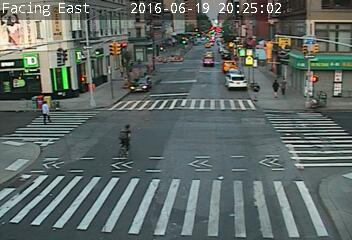neg: (108, 121, 139, 163), (200, 49, 216, 69), (154, 43, 166, 58), (259, 45, 269, 58), (177, 37, 185, 47)
pos: (37, 100, 54, 122), (268, 77, 282, 95), (278, 75, 292, 93)
